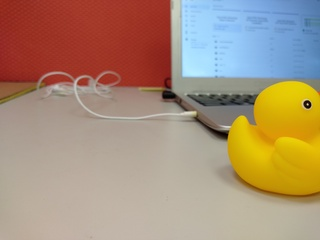duck: (220, 73, 320, 207)
